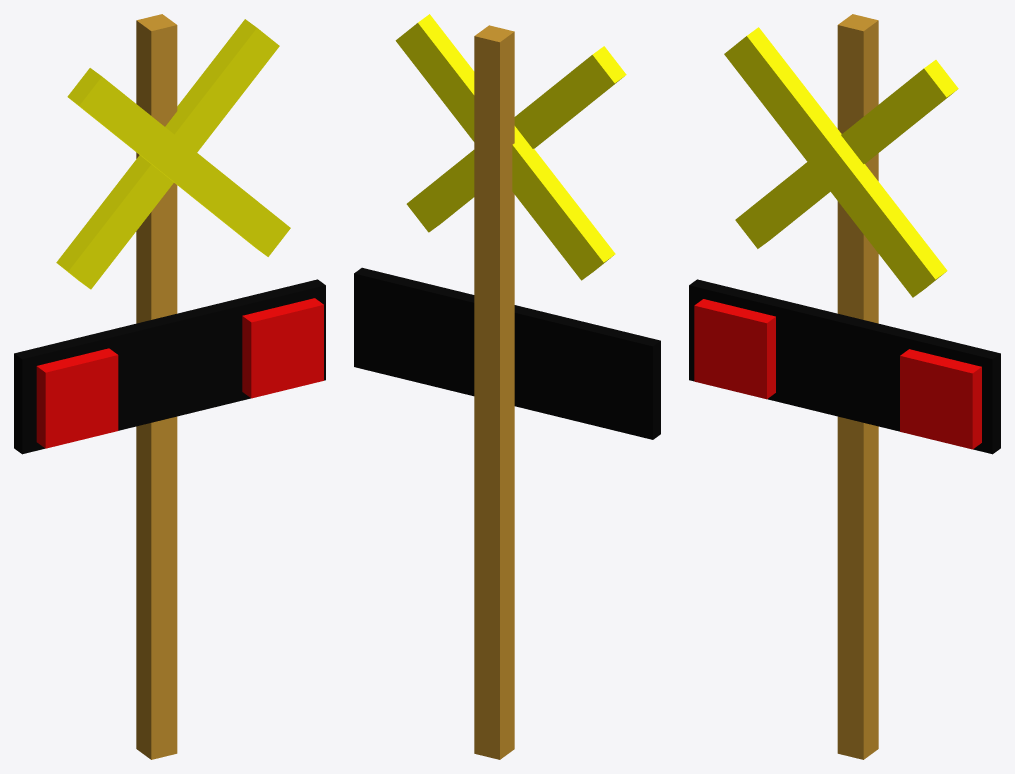
Rendered from crossinggate.glb.
3 renders of one model, left to right at view 1: azimuth 30°, elevation 25°; view 2: azimuth 150°, elevation 25°; view 3: azimuth 330°, elevation 25°, orthographic.
Visible parts, largest first — view 1: pole, backboard1, sign2, sign1, bulb2, bulb1; view 2: pole, backboard1, sign2, sign1; view 3: pole, backboard1, sign1, sign2, bulb1, bulb2.
Part boxes in pixels (x1,y1,x2,y2): pole: (136,14,177,759); backboard1: (14,279,325,454); sign2: (56,19,279,289); sign1: (67,68,290,256); bulb2: (36,348,118,448); bulb1: (242,298,323,398); pole: (474,25,514,759); backboard1: (354,267,660,439); sign2: (395,14,615,280); sign1: (406,46,626,232); pole: (837,14,878,759); backboard1: (689,279,1000,454); sign1: (724,27,947,297); sign2: (735,60,958,248); bulb1: (900,349,981,449); bulb2: (694,299,775,399).
Bounding box in the file's own units: 2.34 × 5.36 × 0.4784.
